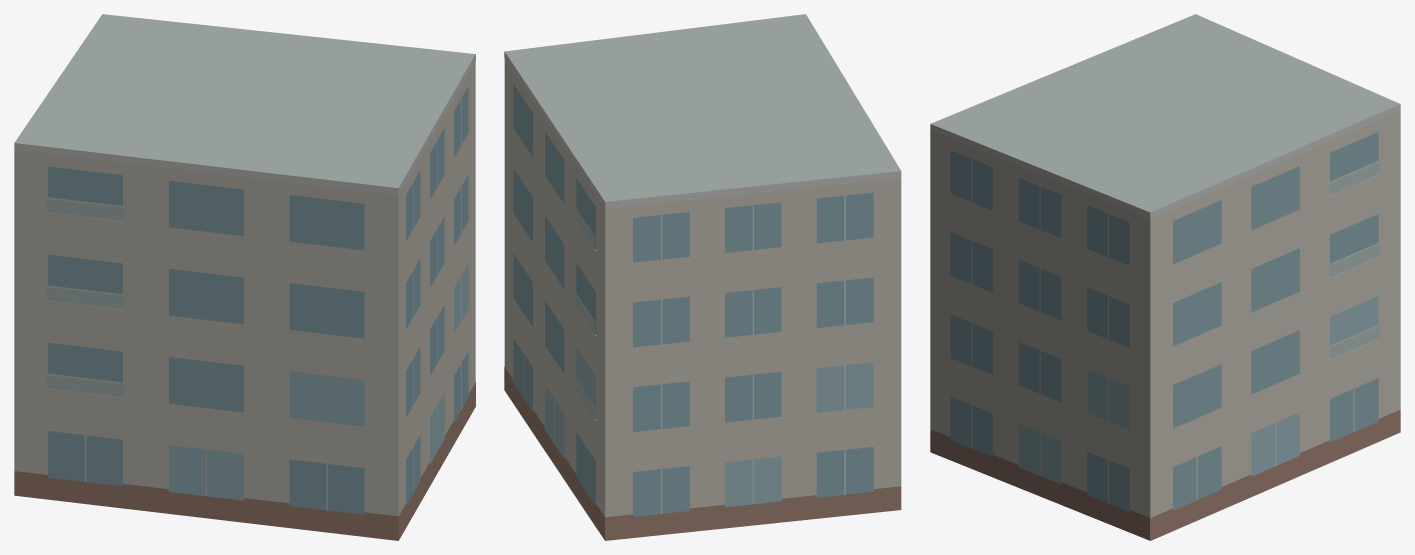
The model's file is survey-upis-32705420.glb.
3 views of the same model, side by side, from view 1: azimuth 30°, elevation 25°; view 2: azimuth 150°, elevation 25°; view 3: azimuth 270°, elevation 25° (orthographic). The views are drawn at different scales.
Visible parts, largest first — view 1: survey-upis-32705420.tmp; view 2: survey-upis-32705420.tmp; view 3: survey-upis-32705420.tmp.
Boxes of the visible parts, box(x1,y1,x2,y2) form: survey-upis-32705420.tmp: box(14, 14, 475, 540); survey-upis-32705420.tmp: box(504, 14, 901, 540); survey-upis-32705420.tmp: box(930, 14, 1400, 540).
Size of the model in its own units: 15.83 by 12.2 by 15.84.
